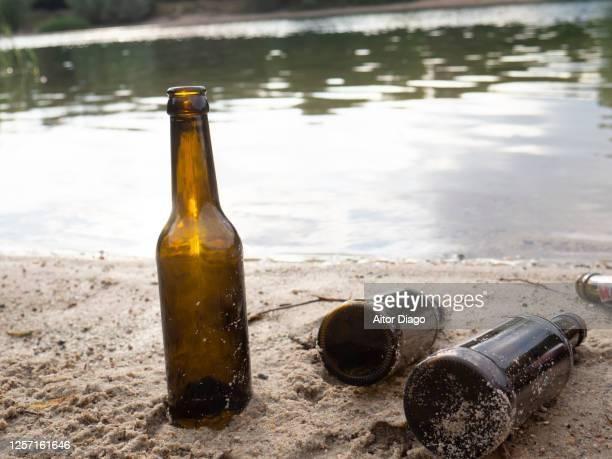Glass: (154, 84, 258, 421), (401, 310, 593, 453), (316, 285, 453, 381)
